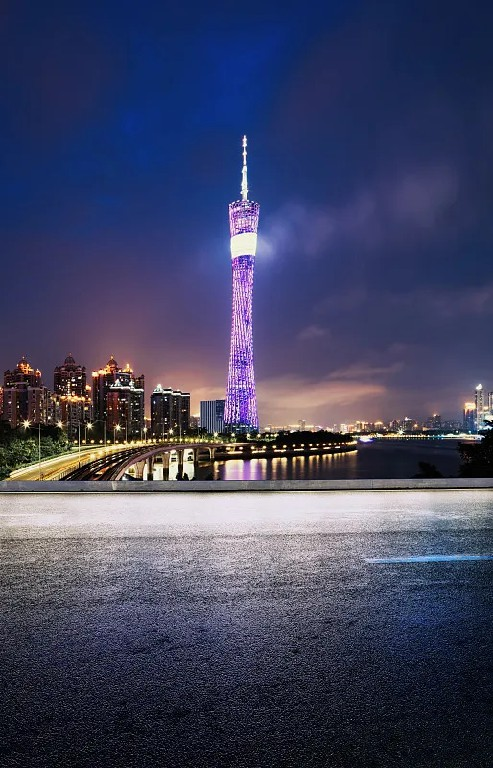Canton: (226, 123, 260, 434)
